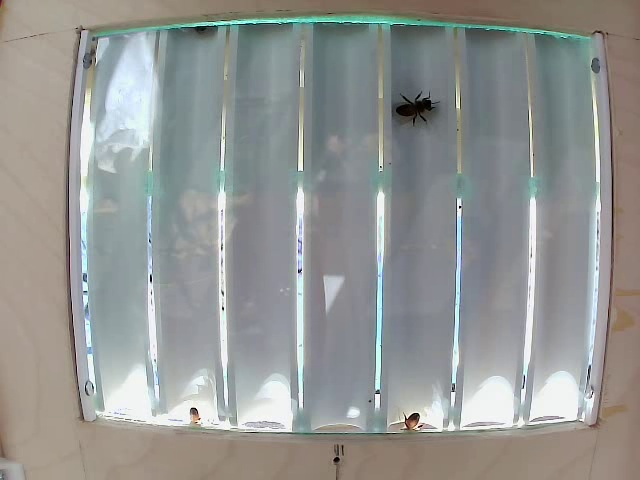bee: (386, 77, 448, 139)
